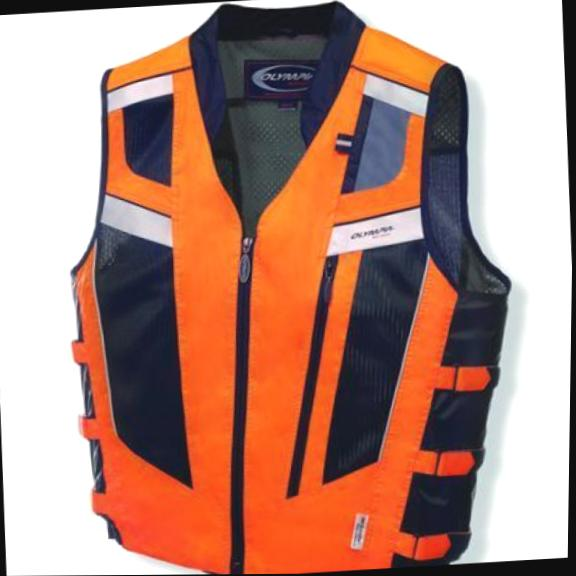safety_vest: (54, 0, 531, 576)
